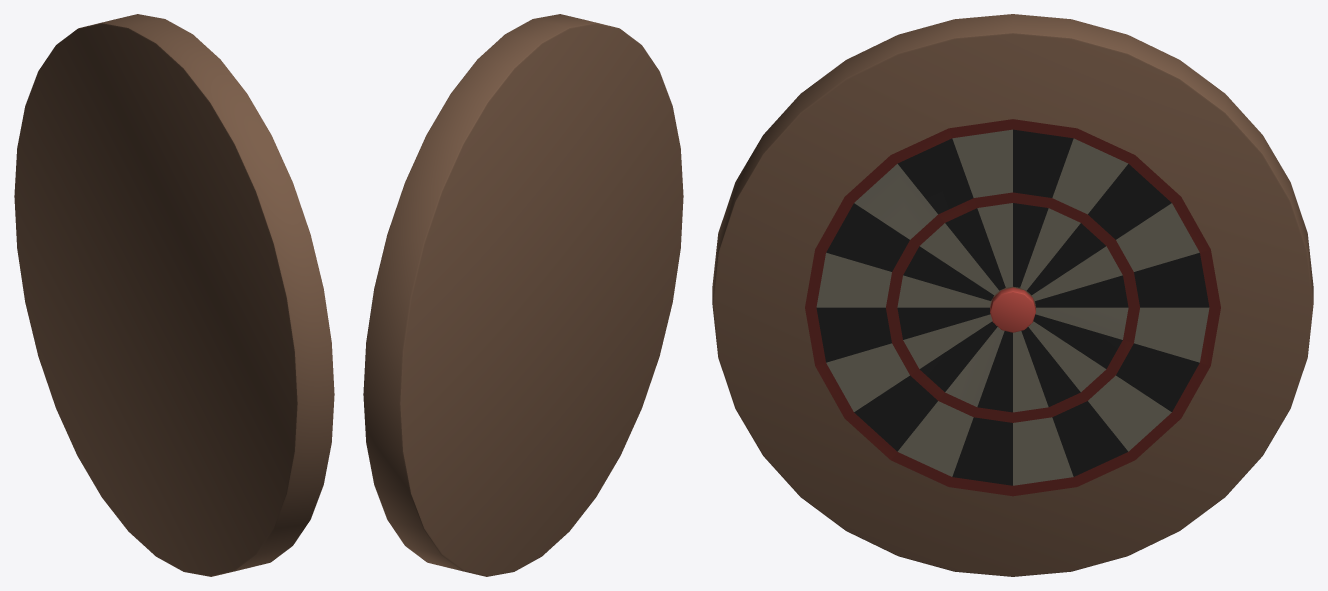
File: dartboard.glb
3 views of the same model, side by side, from view 1: azimuth 30°, elevation 25°; view 2: azimuth 150°, elevation 25°; view 3: azimuth 270°, elevation 25° (orthographic). The views are drawn at different scales.
Parts seen in each view (by area): view 1: boat_darkwood; view 2: boat_darkwood; view 3: boat_darkwood, boat_dartblack, boat_dartcream, boat_dartred.
Part boxes in pixels (x1,y1,x2,y2): boat_darkwood: (14,14,334,576); boat_darkwood: (363,14,683,576); boat_darkwood: (712,14,1313,576); boat_dartblack: (816,129,1209,485); boat_dartcream: (816,129,1209,485); boat_dartred: (805,119,1220,496).
Size of the model in its own units: 0.055 by 0.52 by 0.52.
